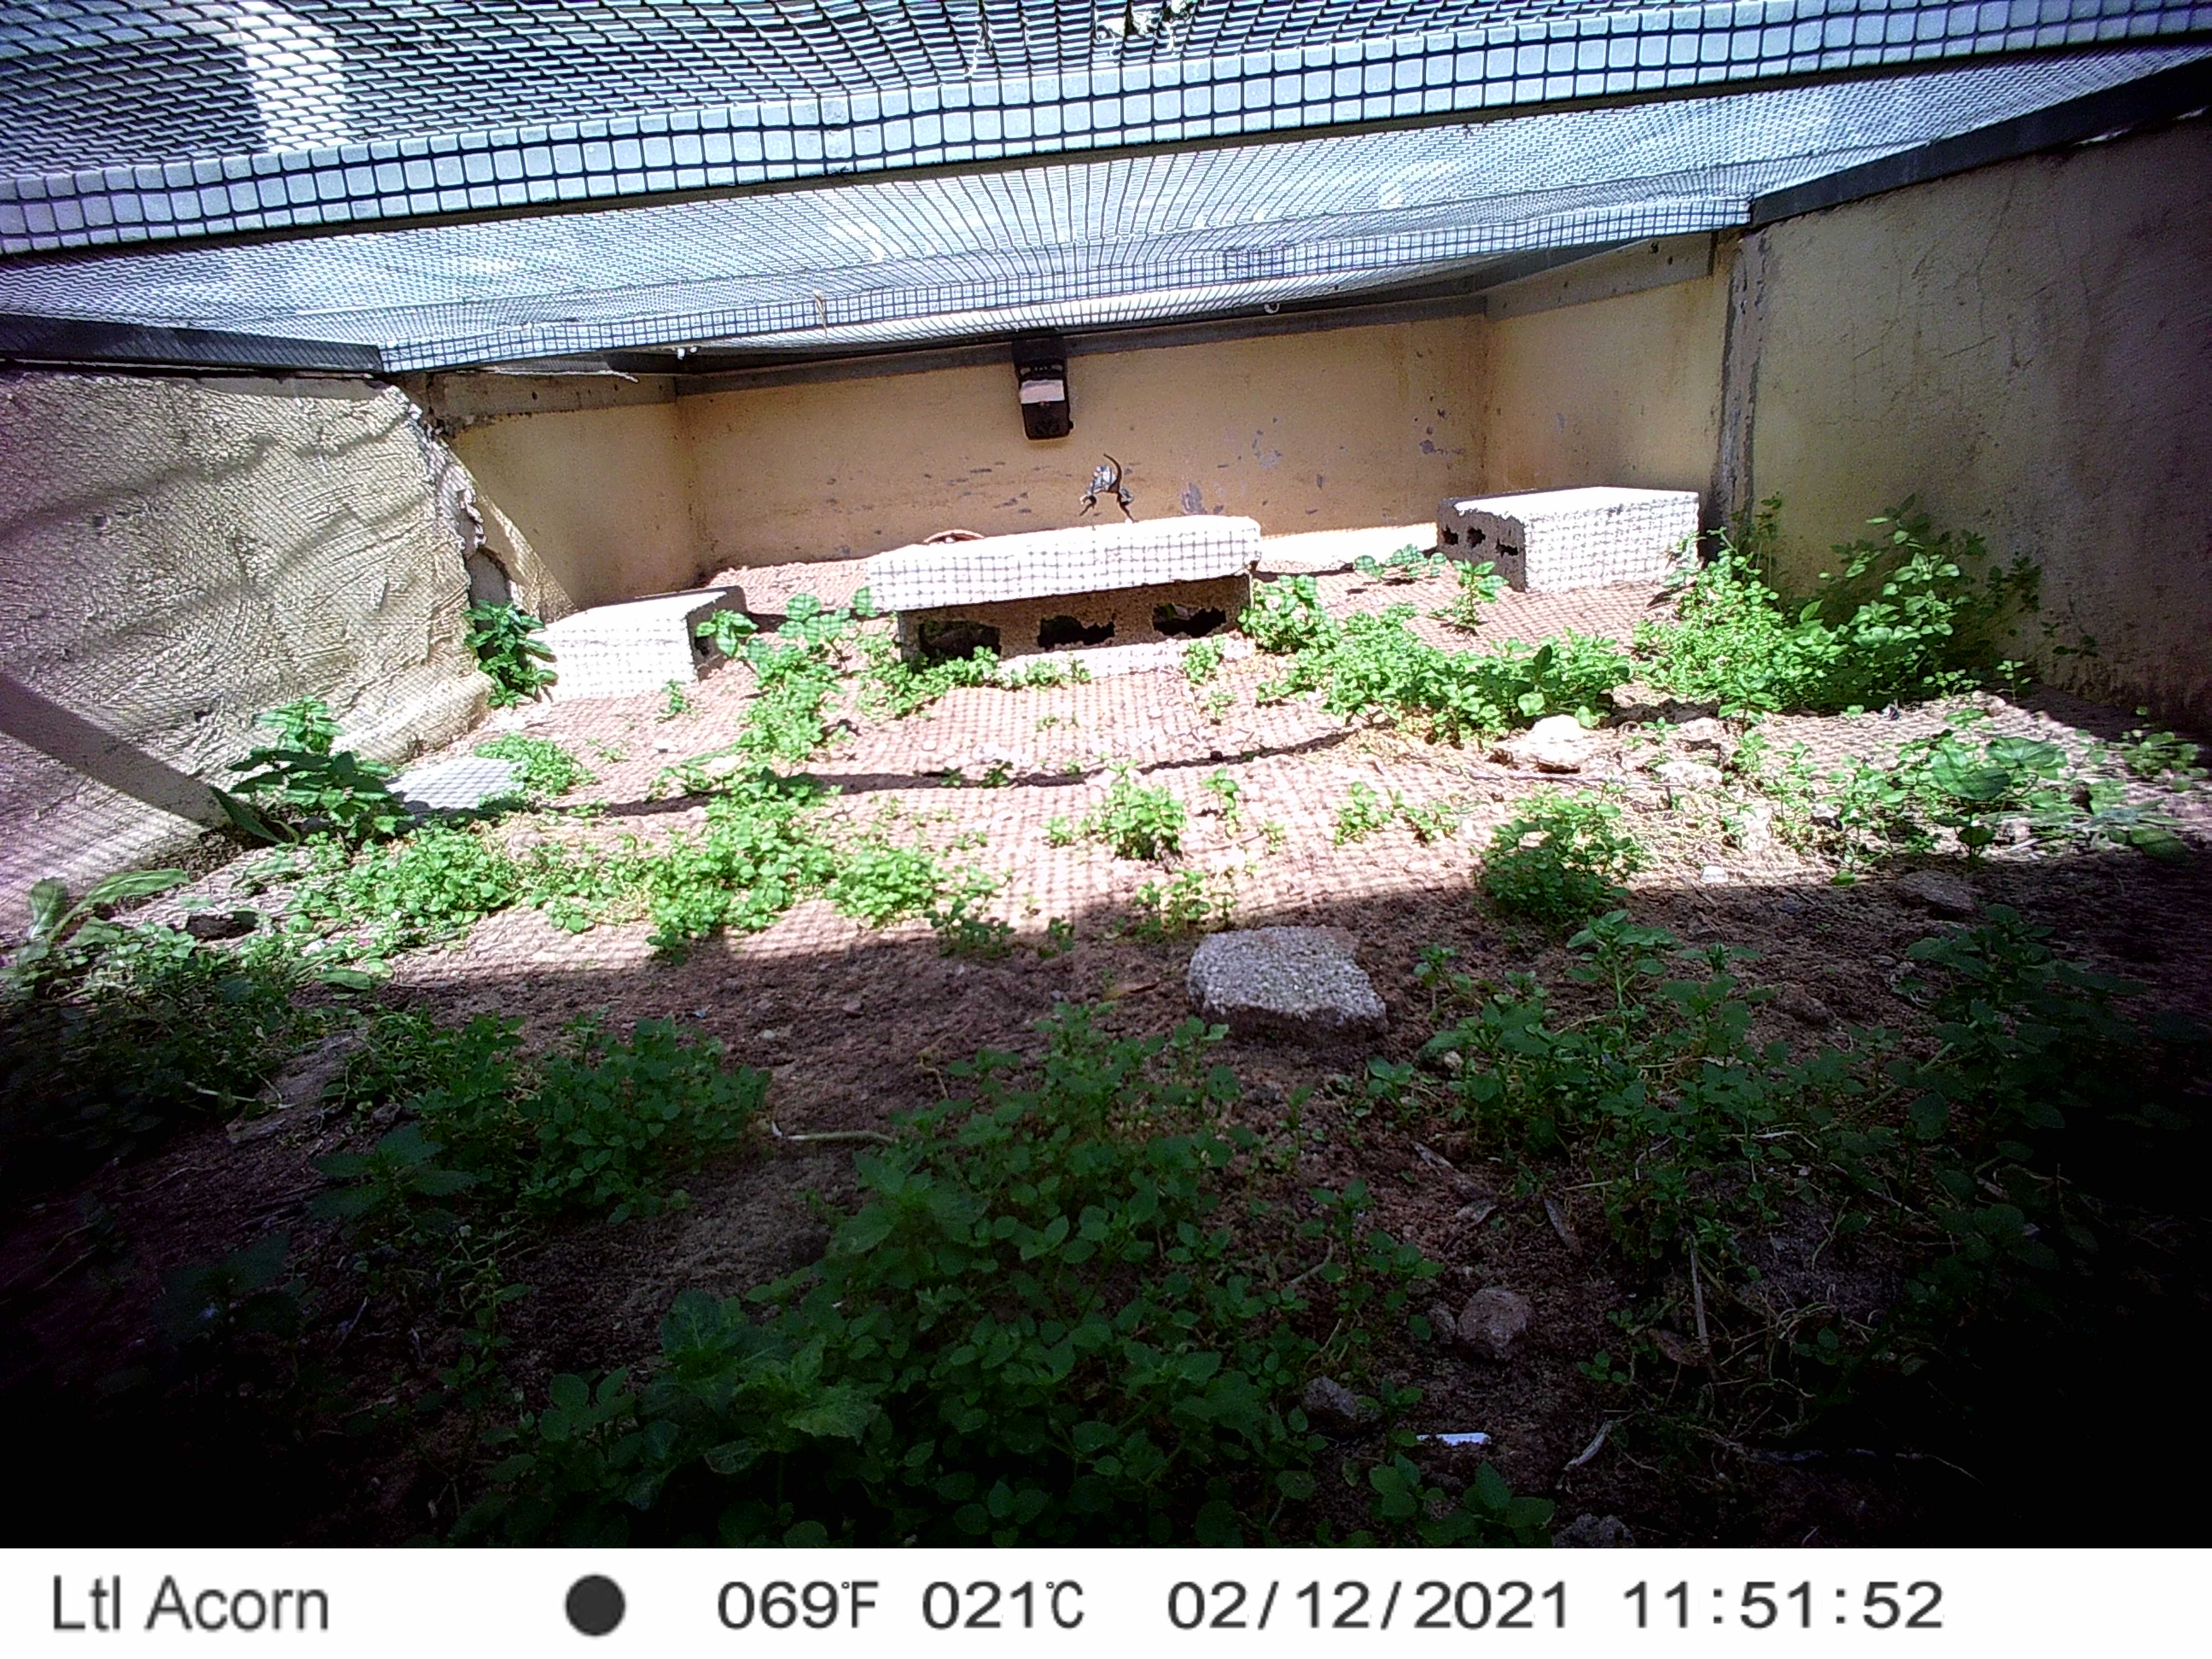lizard: (1082, 451, 1139, 525)
